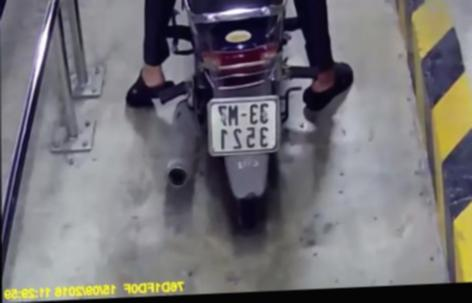License_Plate: (205, 92, 287, 166)
